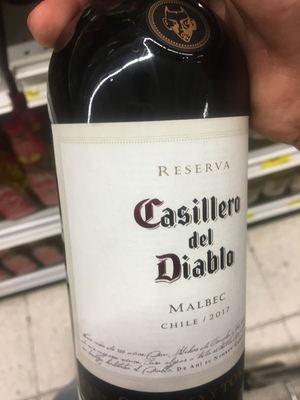casillero del diablo malbec: (47, 13, 252, 400)
